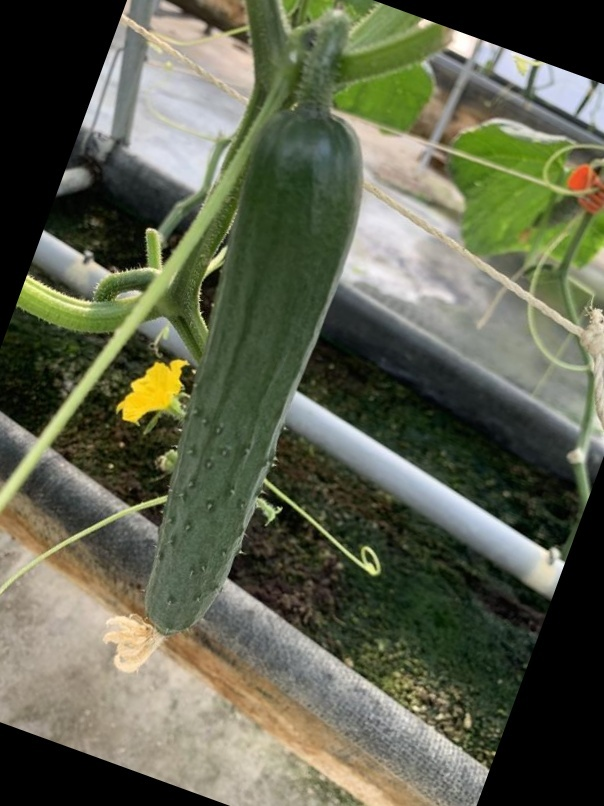mature: (133, 104, 380, 641)
